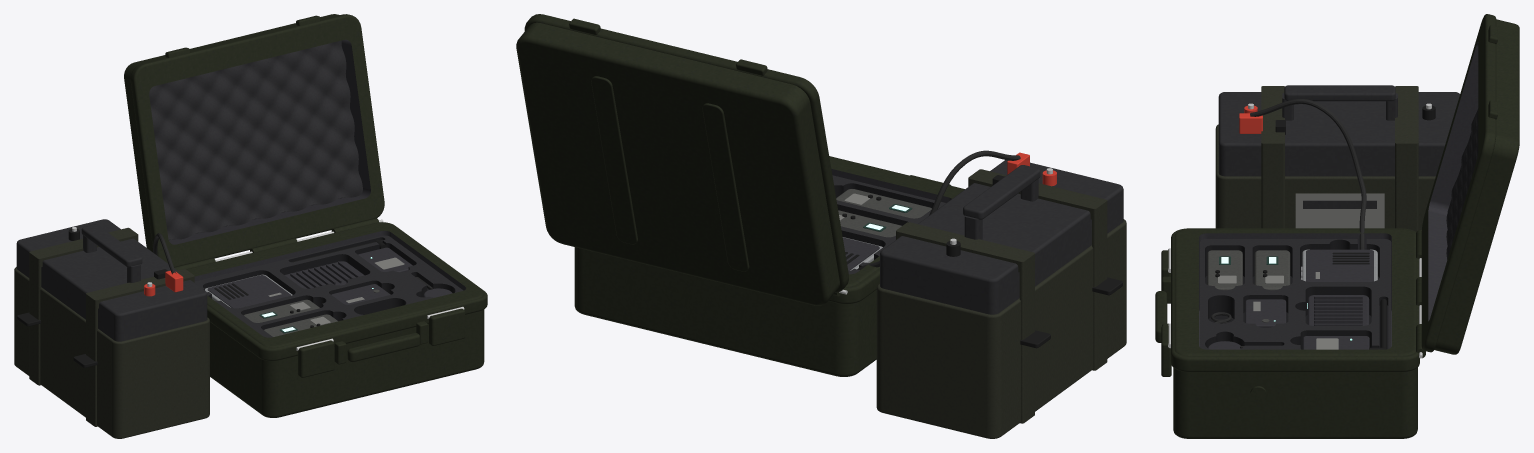
The picture shows the model from 3 angles, left to right: view 1: azimuth 30°, elevation 25°; view 2: azimuth 150°, elevation 25°; view 3: azimuth 270°, elevation 25°; orthographic projection. The views are drawn at different scales.
Visible parts, largest first — view 1: case_lid, battery, case_base, foam_insert, mini_pc, tbeam_radios, travel_router, lora_gateway, card_trackers; view 2: case_lid, battery, case_base, foam_insert, tbeam_radios, mini_pc; view 3: case_base, battery, case_lid, foam_insert, tbeam_radios, mini_pc, travel_router, lora_gateway, card_trackers.
Part boxes in pixels (x1,y1,x2,y2): case_lid: (124,14,384,267); battery: (14,219,209,438); case_base: (174,218,487,417); foam_insert: (194,235,463,337); mini_pc: (205,274,292,308); tbeam_radios: (244,299,337,336); travel_router: (284,261,364,288); lora_gateway: (291,239,412,272); card_trackers: (331,284,390,304); case_lid: (516,14,848,305); battery: (857,150,1126,438); case_base: (574,156,964,376); foam_insert: (832,175,945,274); tbeam_radios: (836,189,931,237); mini_pc: (842,237,882,271); case_base: (1155,228,1425,438); battery: (1215,85,1459,249); case_lid: (1421,14,1519,354); foam_insert: (1200,239,1391,349); tbeam_radios: (1207,250,1290,290); mini_pc: (1301,249,1377,281); travel_router: (1307,295,1369,325); lora_gateway: (1303,299,1386,349); card_trackers: (1245,299,1286,327).
Bounding box in the file's own units: 0.683 × 0.4587 × 0.4912.
Materials: 18 (8 with a texture image).
